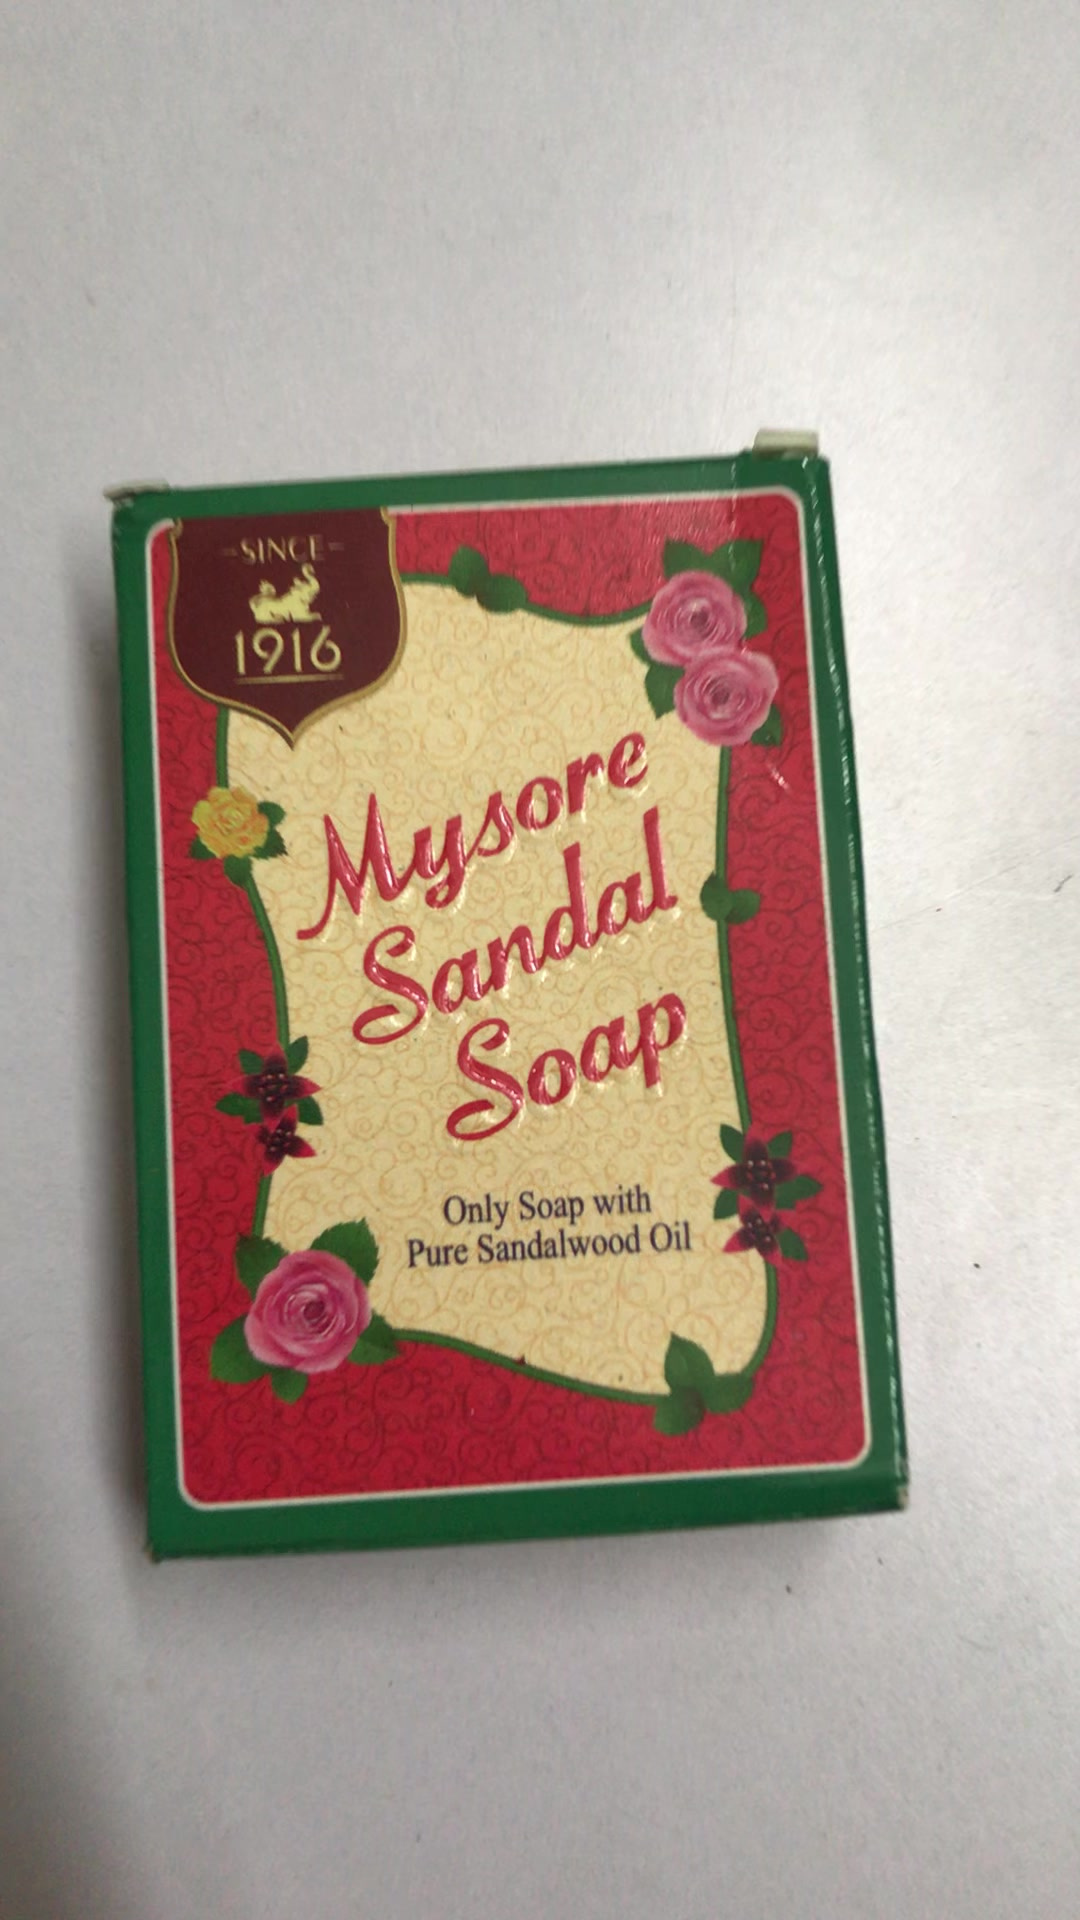mysore sandal soap: (128, 463, 901, 1531)
